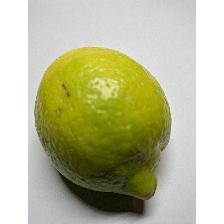Zitrone: (29, 42, 174, 202)
